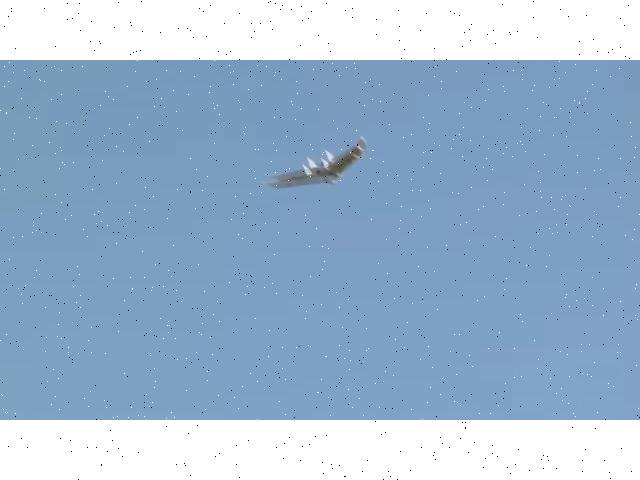Anti-Drone: (270, 139, 368, 187)
